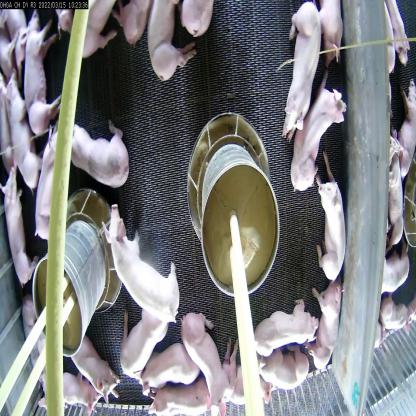Pig: (103, 200, 180, 332), (288, 83, 347, 195), (56, 117, 131, 198), (19, 8, 65, 137), (283, 10, 326, 145), (0, 70, 41, 190), (254, 285, 317, 358), (31, 134, 71, 245), (61, 329, 122, 401), (180, 309, 228, 398), (0, 159, 31, 293), (218, 342, 273, 415), (148, 0, 196, 83), (316, 172, 352, 275), (311, 268, 344, 373), (119, 309, 166, 382), (151, 370, 222, 415), (143, 340, 202, 394), (38, 363, 93, 415), (264, 351, 311, 400)
